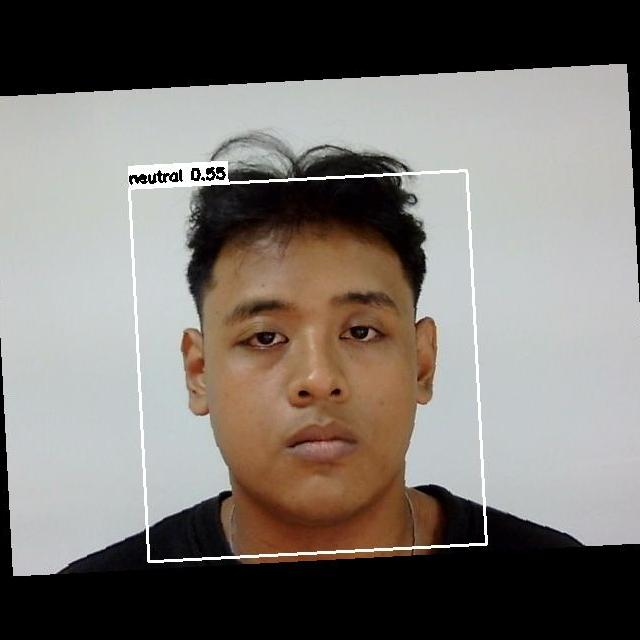Natural: (203, 287, 439, 479)
